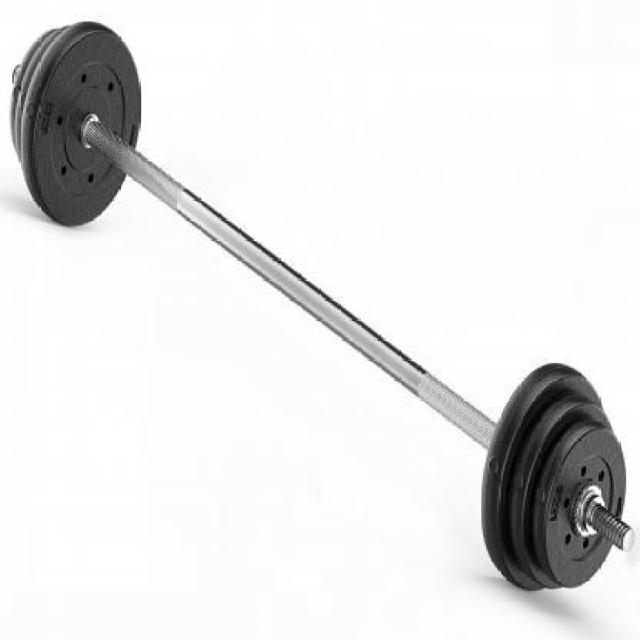barbell: (480, 359, 639, 599)
